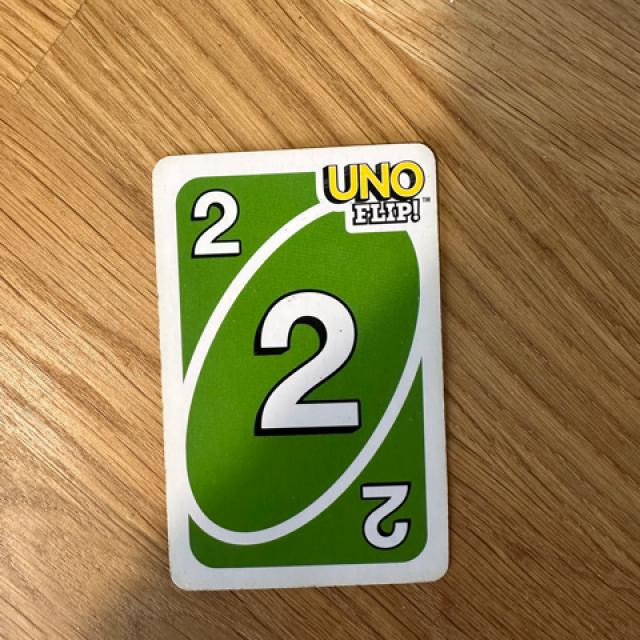lgreen-2: (172, 169, 264, 275)
